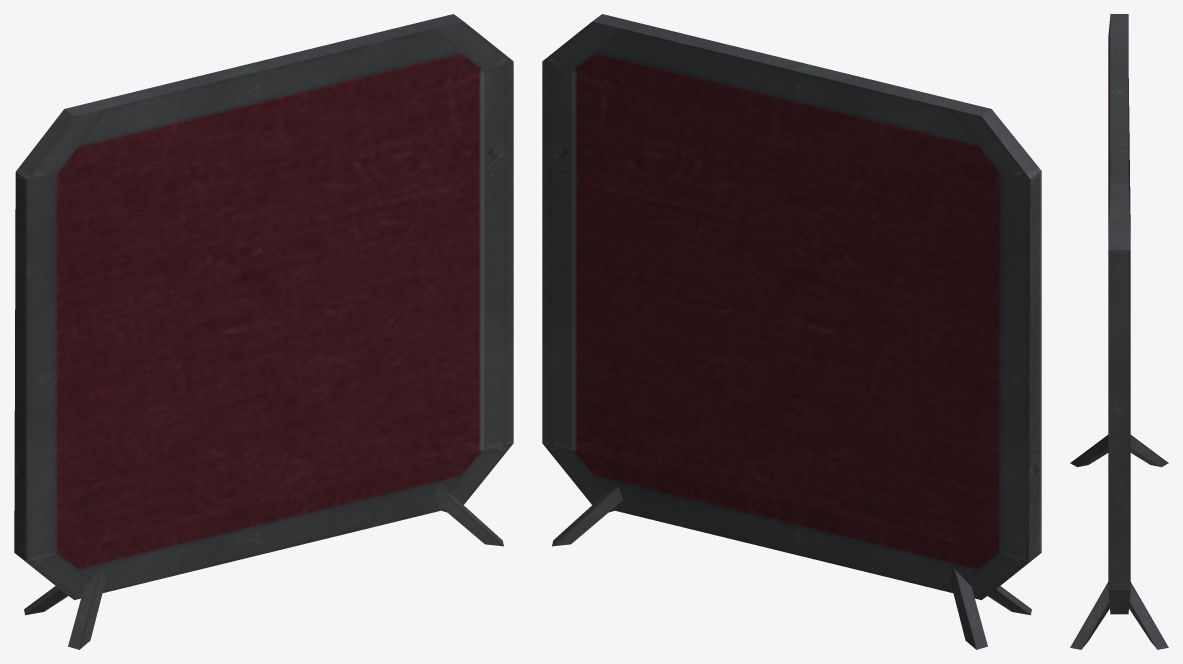
Rendered from mDivider01.obj.
The picture shows the model from 3 angles, left to right: view 1: azimuth 30°, elevation 25°; view 2: azimuth 150°, elevation 25°; view 3: azimuth 270°, elevation 25°; orthographic projection. The views are drawn at different scales.
Parts seen in each view (by area): view 1: mDivider01; view 2: mDivider01; view 3: mDivider01.
Part boxes in pixels (box(x1,y1,x2,y2)): mDivider01: box(14, 14, 513, 649); mDivider01: box(542, 14, 1041, 649); mDivider01: box(1070, 14, 1168, 649).
Bounding box in the file's own units: 3 × 3.02 × 0.5925.
